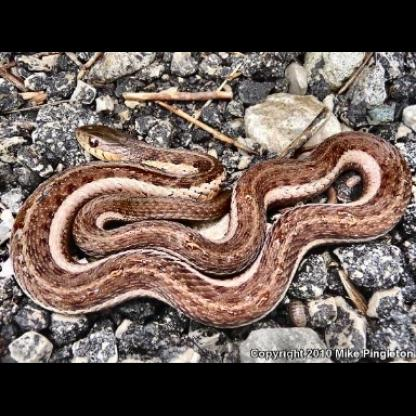Snake: (12, 120, 416, 332)
